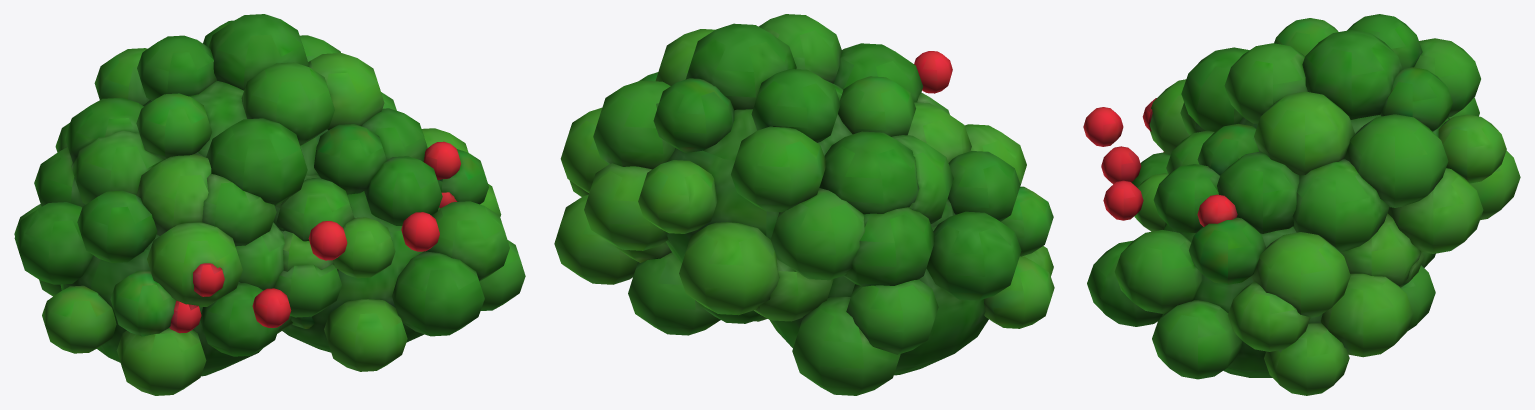
Rendered from bush_obs0.glb.
The picture shows the model from 3 angles, left to right: view 1: azimuth 30°, elevation 25°; view 2: azimuth 150°, elevation 25°; view 3: azimuth 270°, elevation 25°; orthographic projection. The views are drawn at different scales.
Visible parts, largest first — view 1: bush_obs0; view 2: bush_obs0; view 3: bush_obs0.
Part boxes in pixels (x1=…): bush_obs0: x1=14, y1=14, x2=525, y2=395; bush_obs0: x1=554, y1=14, x2=1054, y2=395; bush_obs0: x1=1083, y1=14, x2=1520, y2=395.
Size of the model in its own units: 0.7732 by 0.5013 by 0.6527.
Materials: 1 (1 with a texture image).
